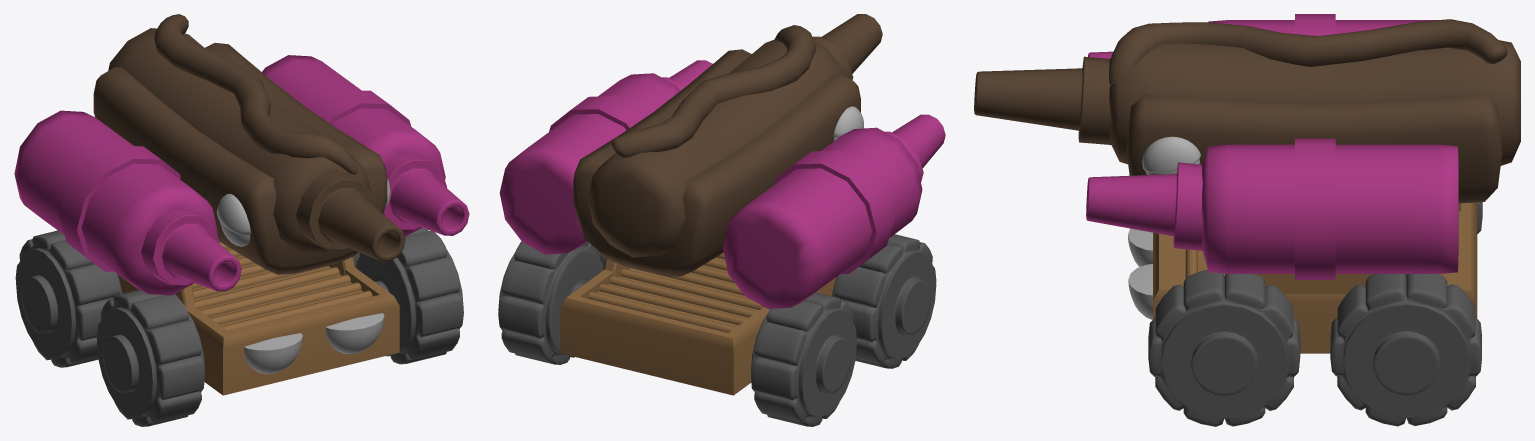
The model's file is HOTDOG TURRET SECOND UPGRADE.fbx.
3 renders of one model, left to right at view 1: azimuth 30°, elevation 25°; view 2: azimuth 150°, elevation 25°; view 3: azimuth 270°, elevation 25°, orthographic. The views are drawn at different scales.
Parts seen in each view (by area): view 1: pCylinder6, polySurface3, polySurface9, GRILL_PIECE_UVED9, GRILL_PIECE_UVED8, GRILL_PIECE_UVED7, GRILL_PIECE_UVED10, GRILL_PIECE_UVED6; view 2: pCylinder6, polySurface3, polySurface9, GRILL_PIECE_UVED3, GRILL_PIECE_UVED5, GRILL_PIECE_UVED, GRILL_PIECE_UVED4, GRILL_PIECE_UVED1; view 3: polySurface3, pCylinder6, polySurface9.
Boxes of the visible parts, x1,y1,x2,y2 form: pCylinder6: (15, 227, 463, 426); polySurface3: (93, 14, 405, 274); polySurface9: (14, 55, 469, 295); GRILL_PIECE_UVED9: (210, 282, 361, 324); GRILL_PIECE_UVED8: (200, 274, 350, 316); GRILL_PIECE_UVED7: (193, 267, 340, 309); GRILL_PIECE_UVED10: (221, 290, 372, 331); GRILL_PIECE_UVED6: (193, 265, 328, 298); pCylinder6: (498, 234, 936, 426); polySurface3: (573, 14, 882, 276); polySurface9: (499, 60, 945, 308); GRILL_PIECE_UVED3: (609, 276, 757, 317); GRILL_PIECE_UVED5: (599, 284, 746, 325); GRILL_PIECE_UVED: (620, 268, 762, 309); GRILL_PIECE_UVED4: (588, 292, 735, 332); GRILL_PIECE_UVED1: (631, 267, 744, 295); polySurface3: (974, 19, 1520, 203); pCylinder6: (1128, 202, 1482, 426); polySurface9: (1086, 14, 1458, 279).
Bounding box in the file's own units: 21.58 × 17.23 × 26.72.
